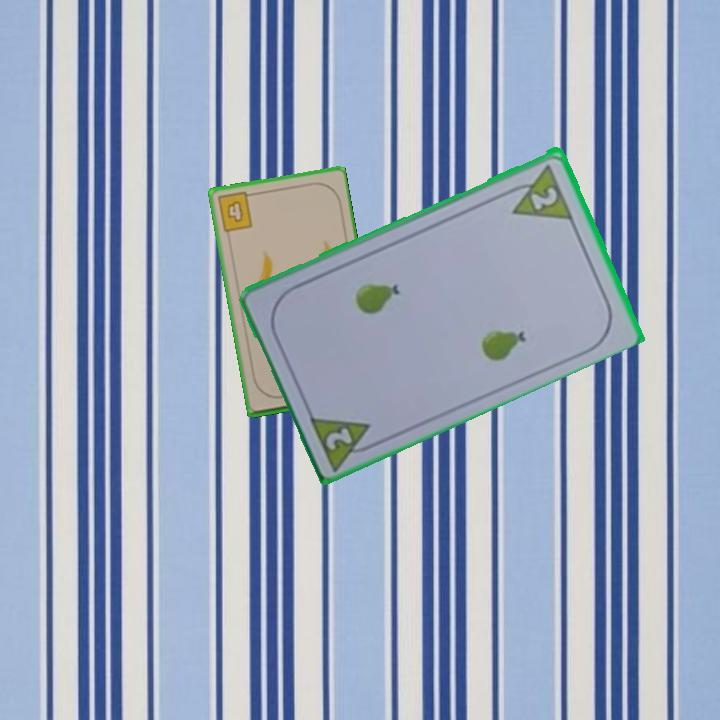2p: (305, 410, 383, 472), (527, 182, 561, 213)
4b: (213, 188, 257, 235)
